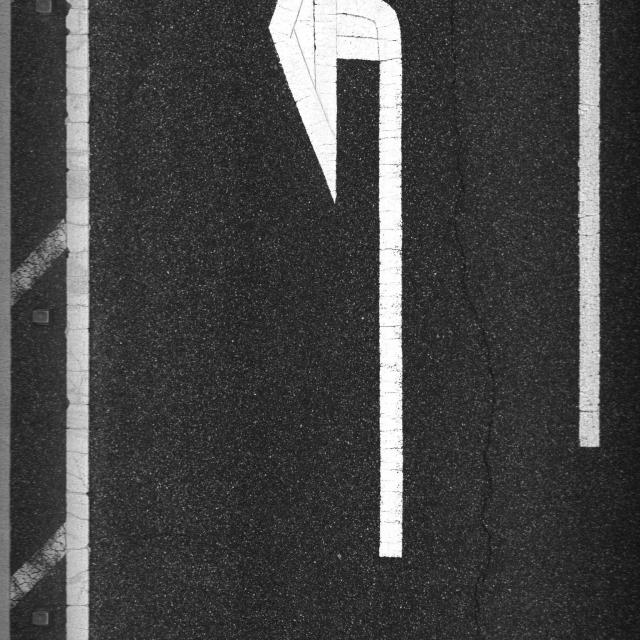left: (69, 2, 616, 543)
